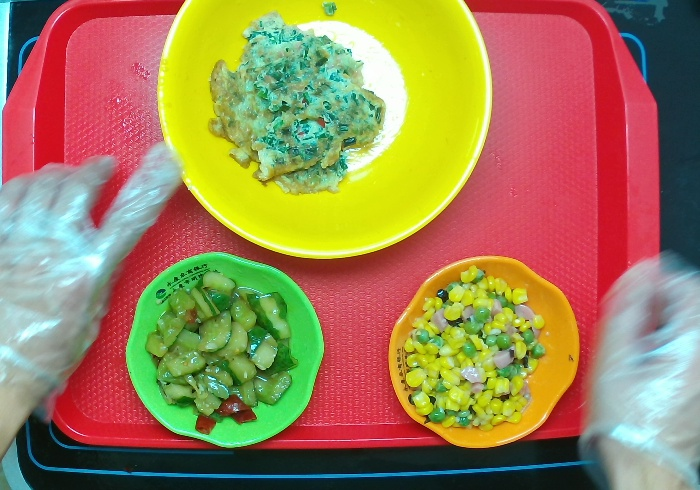YKMZ-Huang_Se_Tang_Wan: (155, 1, 495, 260)
YKMZ-Ju_Se_Ao_Bian_Wan: (386, 254, 581, 451)
YKMZ-Lv_Se_Ao_Bian_Wan: (123, 251, 325, 450)
